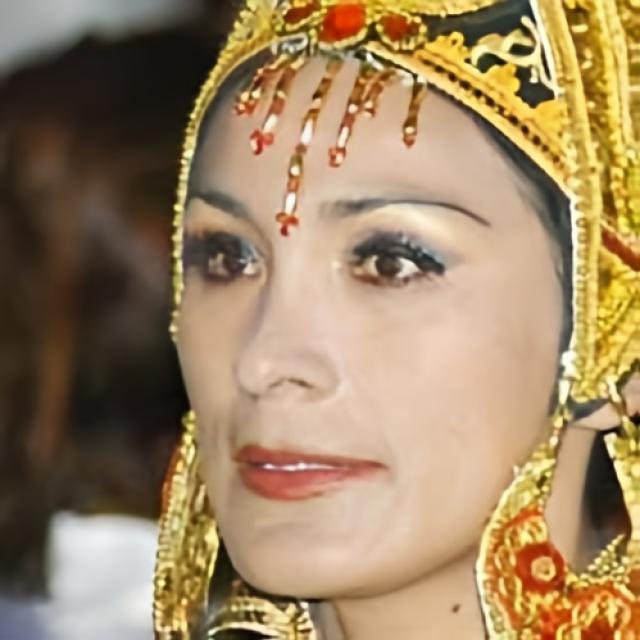neutral: (177, 41, 567, 602)
